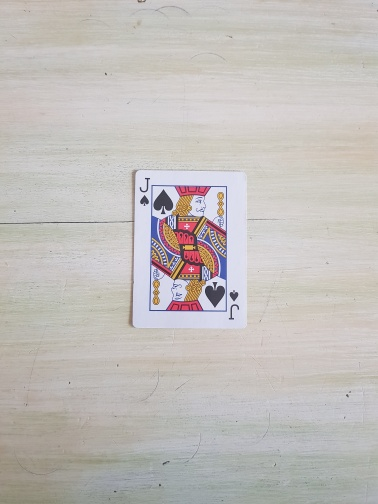jack: (130, 168, 249, 330)
